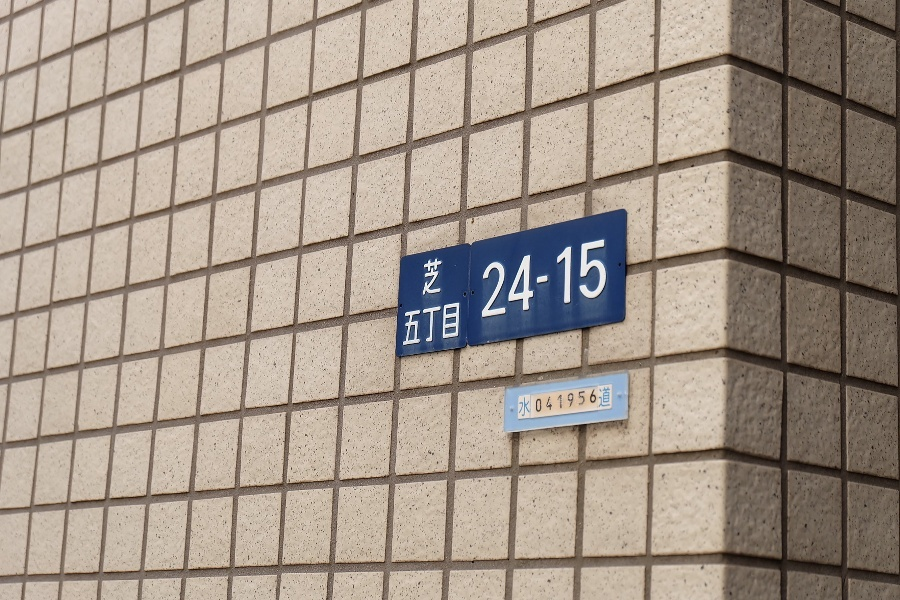text: (593, 237, 609, 322), (481, 237, 496, 322), (497, 237, 512, 322), (513, 237, 528, 322), (529, 237, 544, 322), (545, 237, 560, 322), (561, 237, 576, 322), (577, 237, 592, 322), (417, 302, 432, 349), (433, 302, 448, 349), (404, 302, 416, 349), (449, 302, 461, 349), (421, 257, 432, 299), (433, 257, 444, 299), (545, 386, 560, 416), (561, 386, 576, 416), (577, 386, 592, 416), (534, 386, 544, 416), (598, 386, 608, 410), (520, 396, 528, 418), (593, 386, 598, 416), (609, 386, 612, 410), (529, 396, 531, 418)
